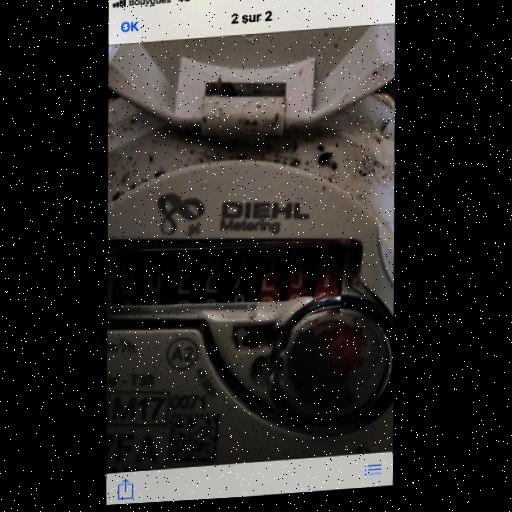0: (138, 247, 172, 307), (111, 248, 144, 307)
1: (310, 243, 342, 299)
2: (165, 246, 201, 306), (196, 246, 230, 305), (255, 245, 287, 303)
7: (225, 245, 261, 304)
9: (282, 244, 314, 302)
border_water_meter_number: (103, 220, 365, 344)
